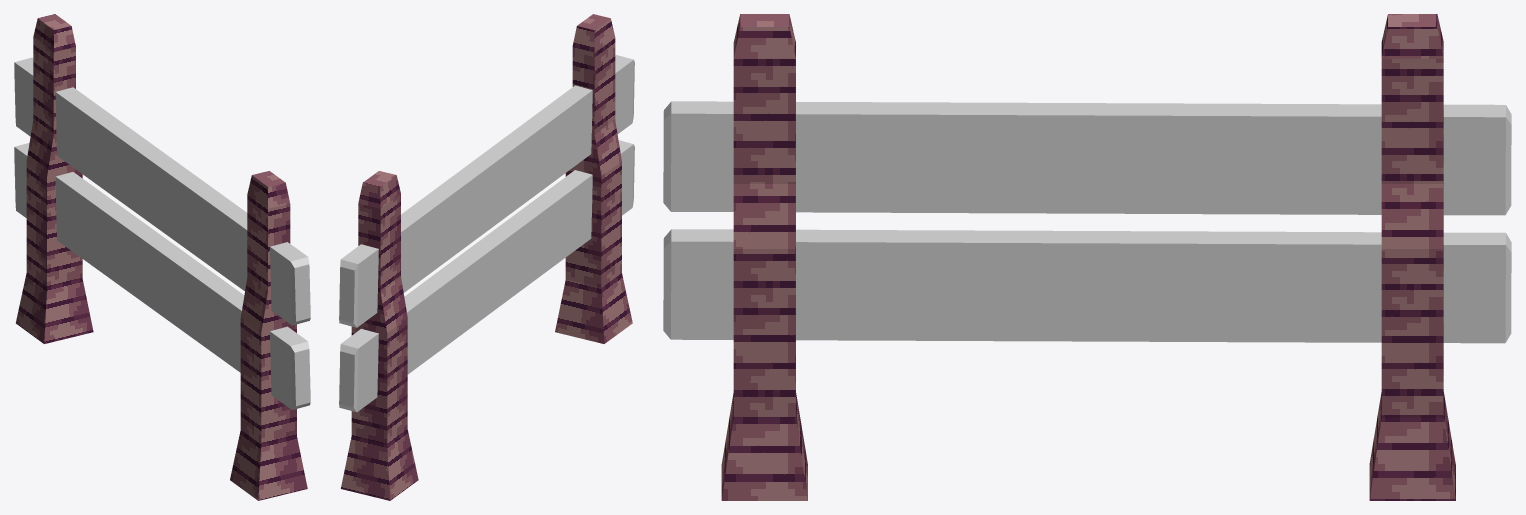
File: Fence.fbx
The picture shows the model from 3 angles, left to right: view 1: azimuth 30°, elevation 25°; view 2: azimuth 150°, elevation 25°; view 3: azimuth 270°, elevation 25°; orthographic projection. The views are drawn at different scales.
Visible parts, largest first — view 1: Cube.003; view 2: Cube.003; view 3: Cube.003.
Part boxes in pixels (bbox=[...]): Cube.003: bbox=[14, 14, 310, 500]; Cube.003: bbox=[339, 14, 634, 500]; Cube.003: bbox=[663, 14, 1511, 500].
Size of the model in its own units: 73.52 by 435 by 723.
